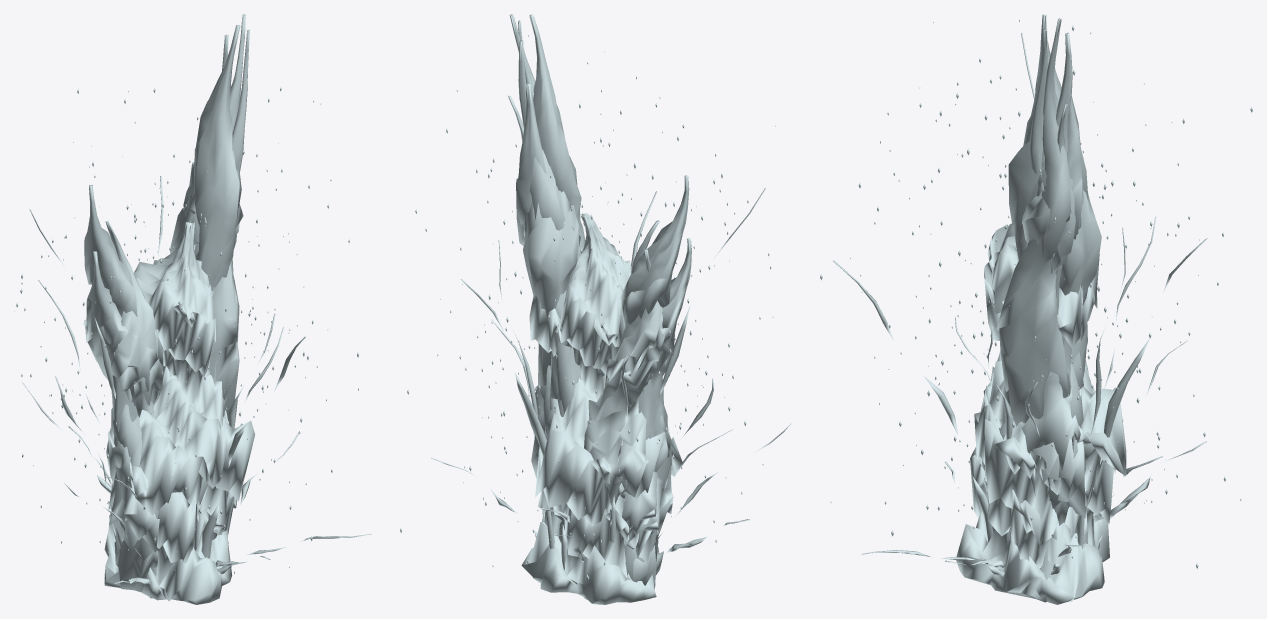
File: uneven-fork-peak.glb
3 views of the same model, side by side, from view 1: azimuth 30°, elevation 25°; view 2: azimuth 150°, elevation 25°; view 3: azimuth 270°, elevation 25° (orthographic). The views are drawn at different scales.
Visible parts, largest first — view 1: Shell water / deforming core, jets and drops; view 2: Shell water / deforming core, jets and drops; view 3: Shell water / deforming core, jets and drops.
Boxes of the visible parts, x1=… form: Shell water / deforming core, jets and drops: x1=14, y1=14, x2=371, y2=604; Shell water / deforming core, jets and drops: x1=400, y1=14, x2=791, y2=604; Shell water / deforming core, jets and drops: x1=820, y1=14, x2=1252, y2=604.
Bounding box in the file's own units: 0.6347 × 0.9983 × 0.656.
